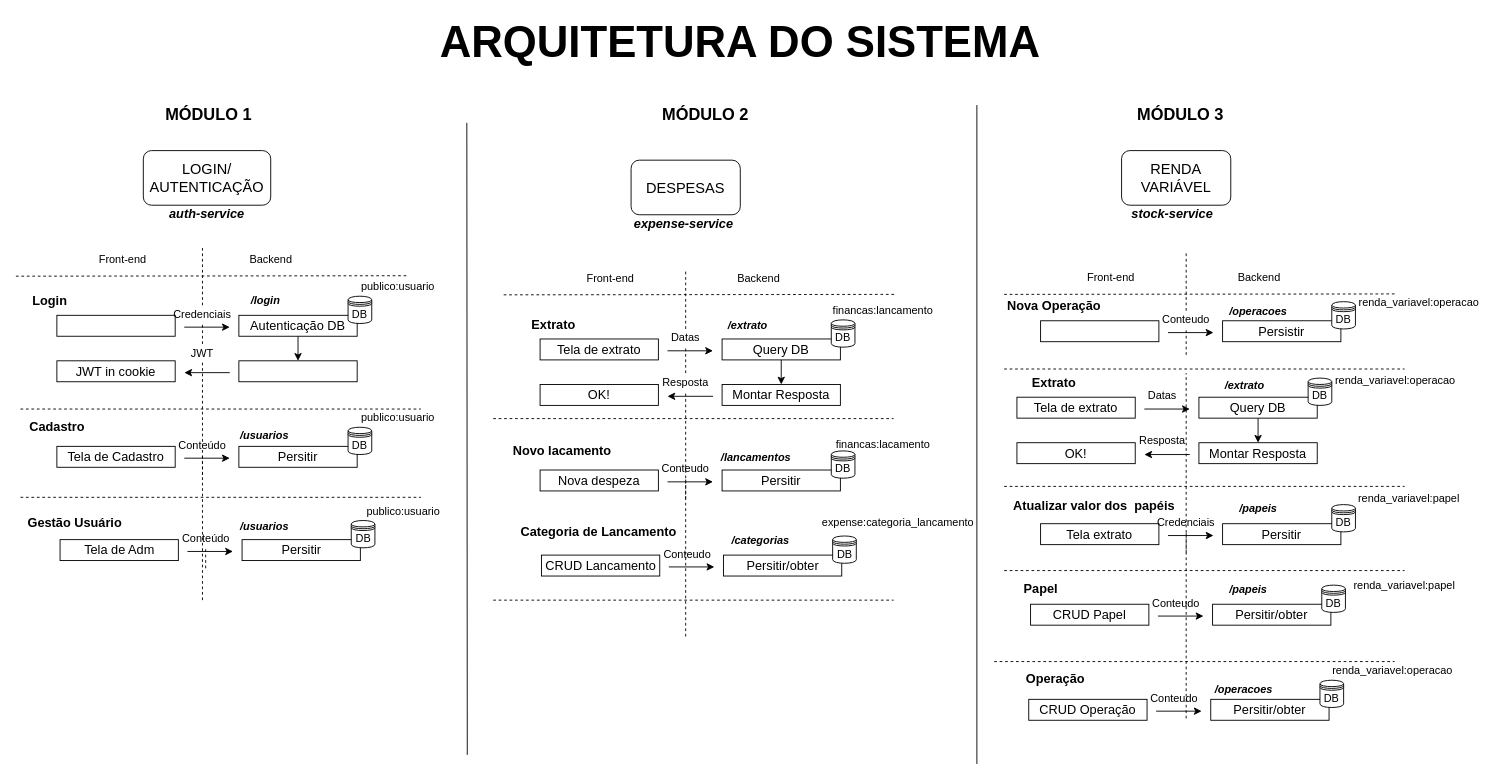
The diagram is 1499 pixels wide and 781 high, and some of its shapes have lost their labels. The centre of each missing label's shape, as x and y in pixels:
Autenticação JWT: [297,371]
Tela de Login: [115,325]
Tela de nova: [1099,331]
